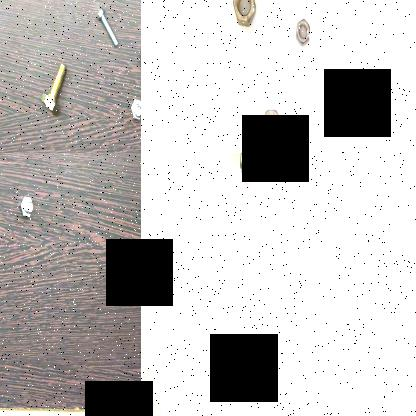Bolts: (40, 62, 70, 119), (96, 7, 120, 52), (20, 190, 36, 224), (124, 96, 141, 122)
NUTS: (258, 92, 286, 150), (227, 0, 263, 33), (290, 11, 318, 51), (237, 153, 263, 185), (285, 153, 307, 186)
